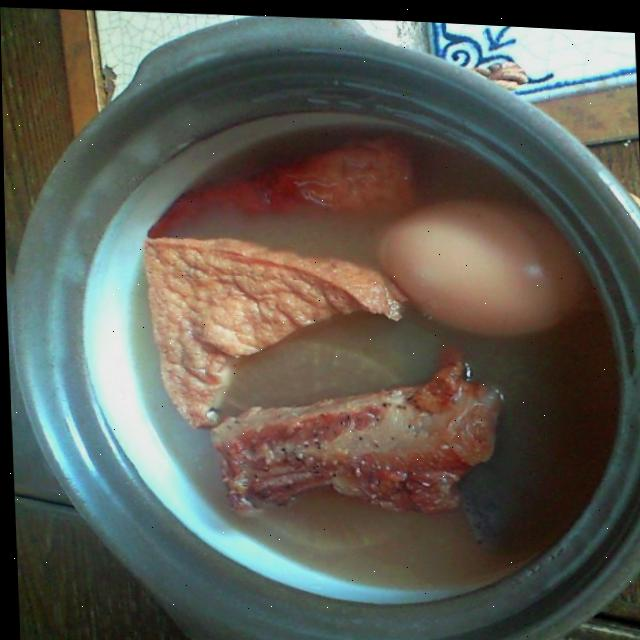汤锅炖物: (129, 115, 602, 566)
